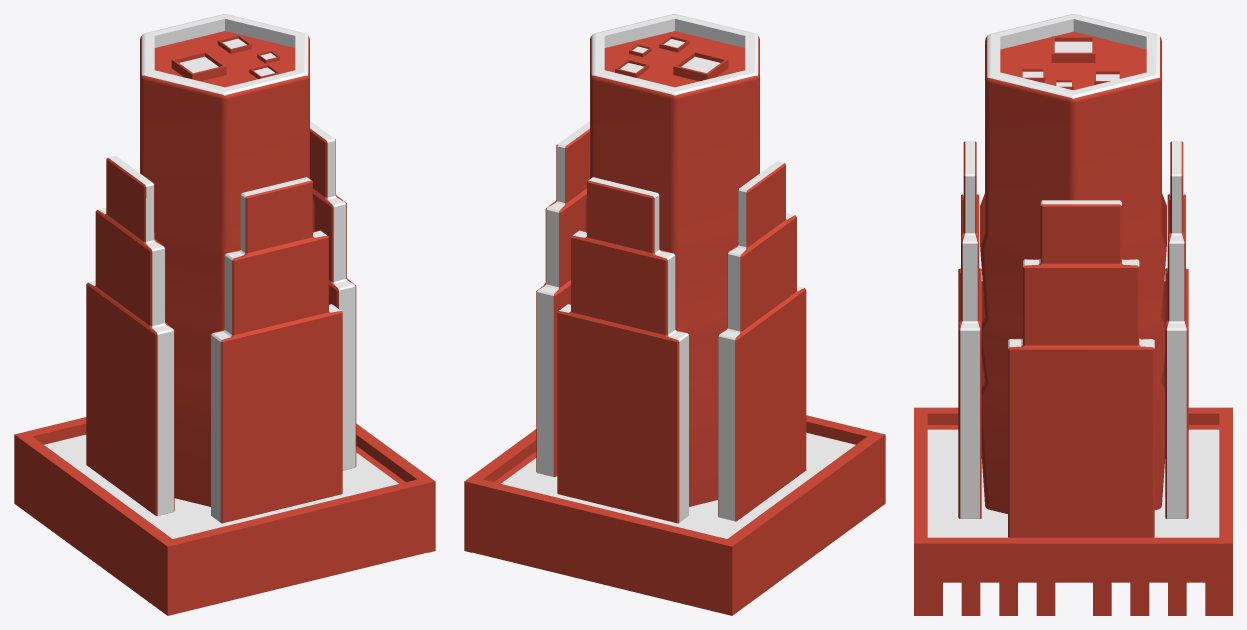
File: Building_24_Red.glb
3 views of the same model, side by side, from view 1: azimuth 30°, elevation 25°; view 2: azimuth 150°, elevation 25°; view 3: azimuth 270°, elevation 25° (orthographic). The views are drawn at different scales.
Visible parts, largest first — view 1: pCube17; view 2: pCube17; view 3: pCube17.
Boxes of the visible parts, x1,y1,x2,y2 form: pCube17: [14, 14, 435, 615]; pCube17: [464, 14, 885, 615]; pCube17: [914, 14, 1232, 615].
Size of the model in its own units: 5393 by 9133 by 5350.
